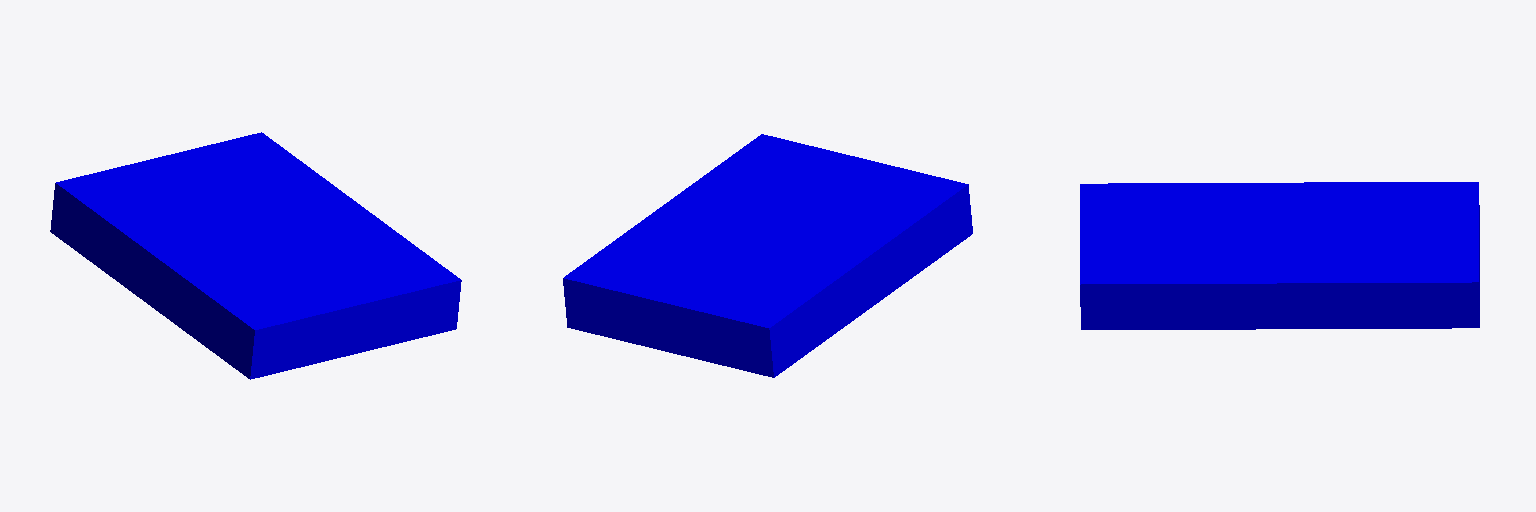
Rendered from planes_1-dynamic - BLK2GO-3630355-Scan 080 52.obj.
The picture shows the model from 3 angles: view 1: azimuth 30°, elevation 25°; view 2: azimuth 150°, elevation 25°; view 3: azimuth 270°, elevation 25°; orthographic projection.
Visible parts, largest first — view 1: 1-dynamic_-_BLK2GO-[number redacted]-Scan_080_52_0; view 2: 1-dynamic_-_BLK2GO-[number redacted]-Scan_080_52_0; view 3: 1-dynamic_-_BLK2GO-[number redacted]-Scan_080_52_0.
Boxes of the visible parts, x1,y1,x2,y2 form: 1-dynamic_-_BLK2GO-[number redacted]-Scan_080_52_0: [50, 132, 461, 379]; 1-dynamic_-_BLK2GO-[number redacted]-Scan_080_52_0: [563, 134, 972, 377]; 1-dynamic_-_BLK2GO-[number redacted]-Scan_080_52_0: [1080, 182, 1479, 329].
Size of the model in its own units: 1.04 by 0.2341 by 1.69.